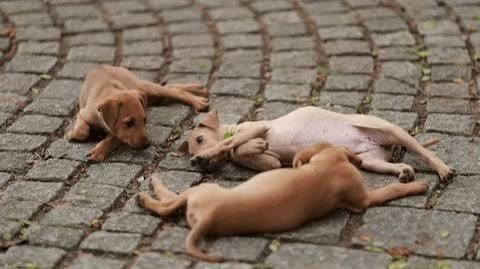puppy-dog: (137, 145, 434, 263), (168, 104, 456, 183), (63, 65, 211, 163)
